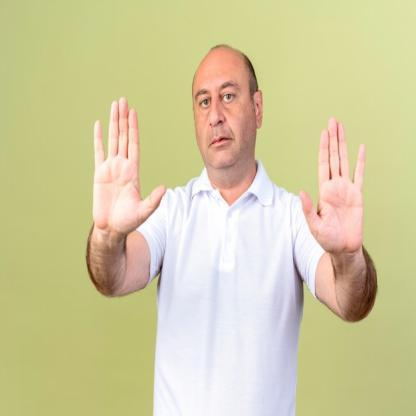stop: (89, 93, 169, 234), (298, 114, 372, 260)
